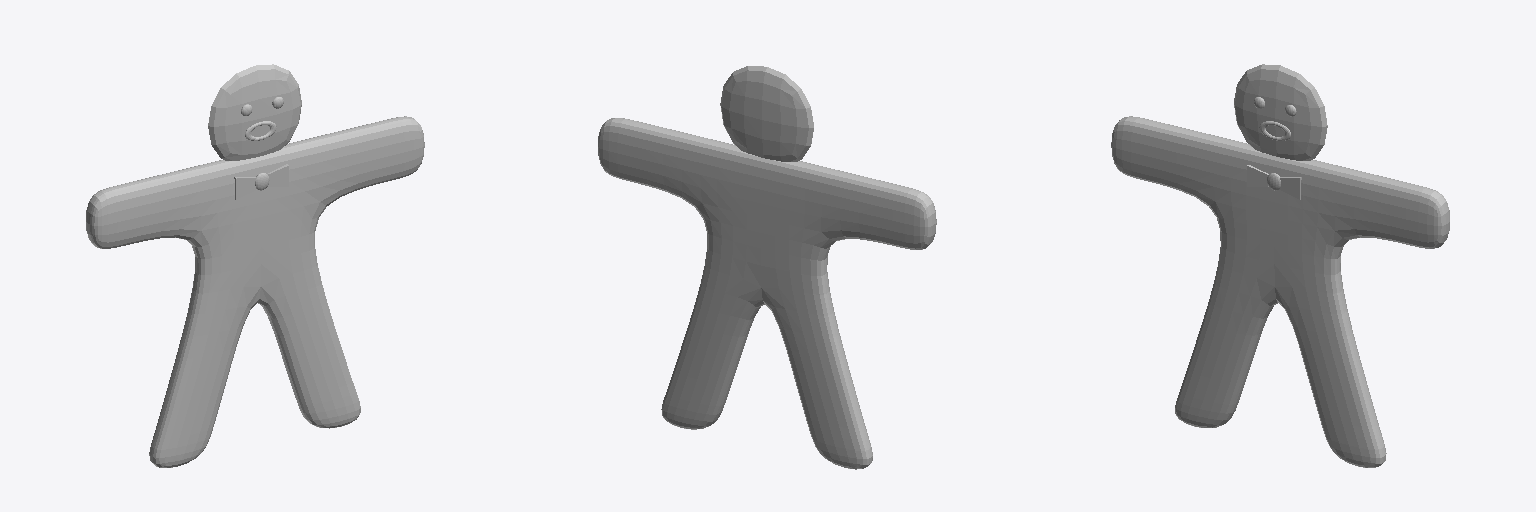
File: gus2.obj
3 views of the same model, side by side, from view 1: azimuth 30°, elevation 25°; view 2: azimuth 150°, elevation 25°; view 3: azimuth 330°, elevation 25° (orthographic).
Visible parts, largest first — view 1: gUS, Cube; view 2: gUS; view 3: gUS, Cube.
Boxes of the visible parts, x1,y1,x2,y2 form: gUS: [86, 64, 424, 467]; Cube: [234, 164, 288, 199]; gUS: [598, 66, 936, 469]; gUS: [1111, 64, 1449, 467]; Cube: [1247, 165, 1301, 199].
Size of the model in its own units: 5.96 by 6.48 by 0.45.